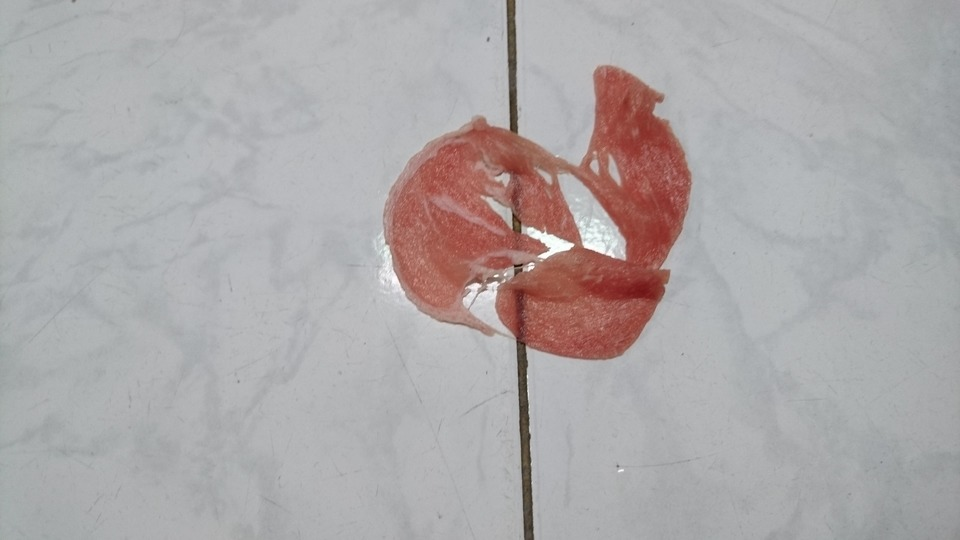restructured meat: (382, 64, 693, 368)
